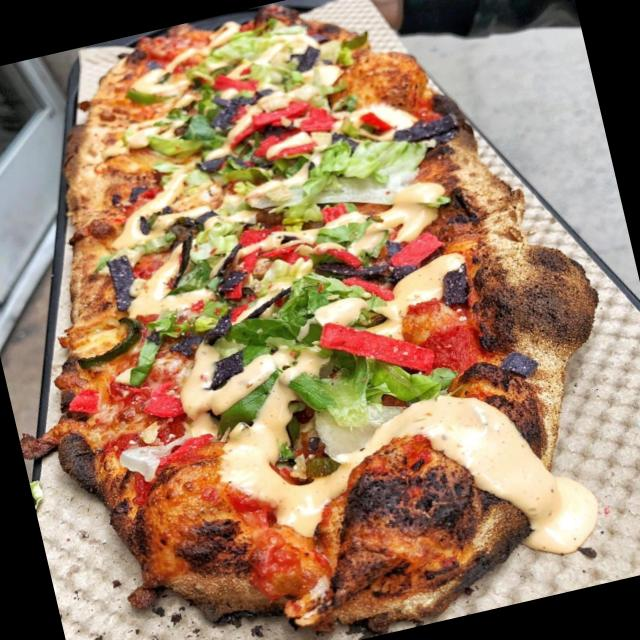peppers: (66, 316, 148, 378), (124, 79, 168, 110)
pizza: (36, 3, 601, 633)
